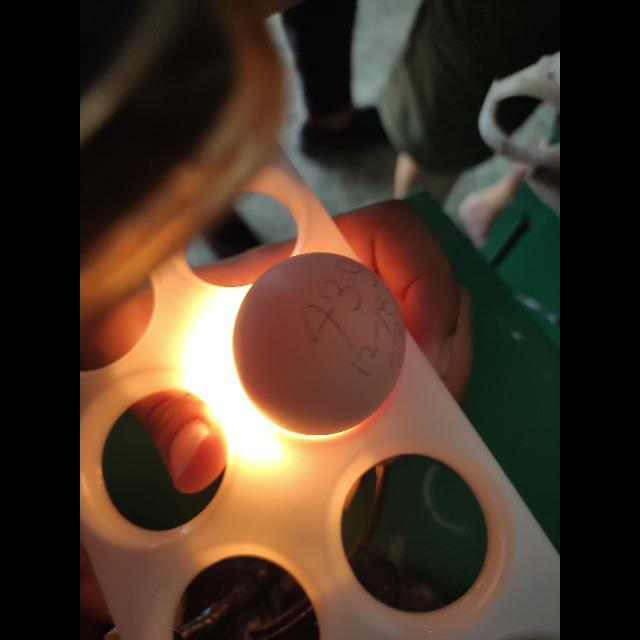Fertile: (228, 248, 414, 438)
